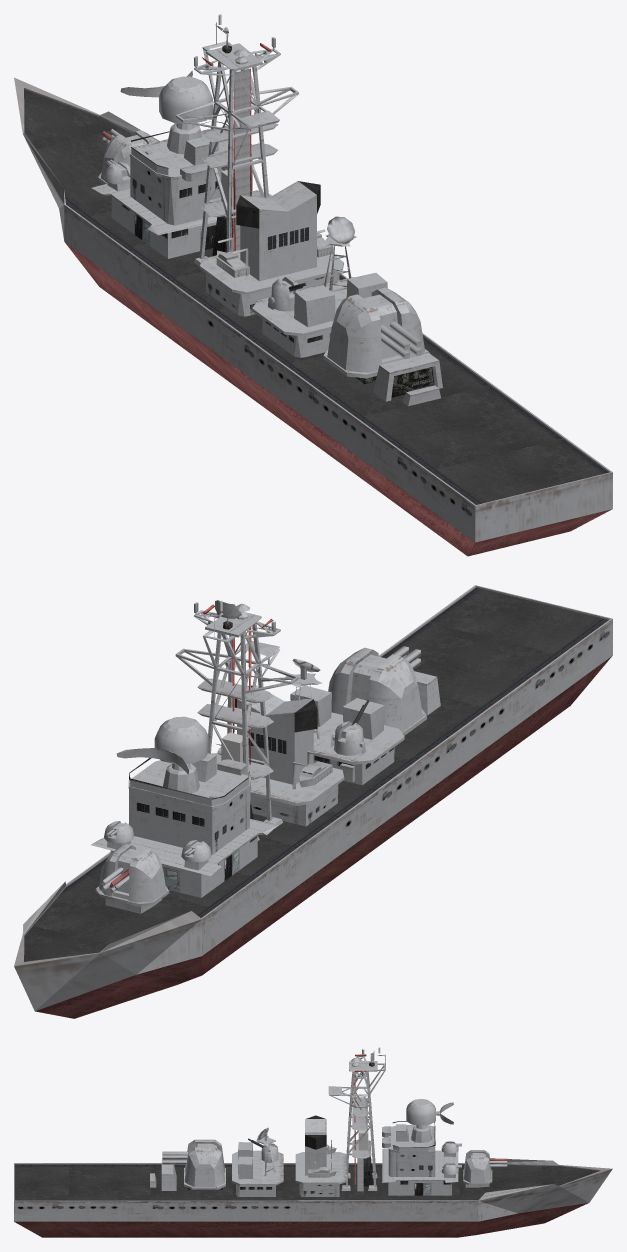
File: qzj.gltf
3 views of the same model, one above another, from view 1: azimuth 30°, elevation 25°; view 2: azimuth 150°, elevation 25°; view 3: azimuth 270°, elevation 25° (orthographic). The views are drawn at different scales.
Parts seen in each view (by area): view 1: Box001; view 2: Box001; view 3: Box001.
Part boxes in pixels (bbox=[...]): Box001: bbox=[14, 14, 612, 556]; Box001: bbox=[14, 585, 612, 1018]; Box001: bbox=[14, 1047, 612, 1237].
Size of the model in its own units: 102 by 221 by 683.
Materials: 74 (73 with a texture image).
